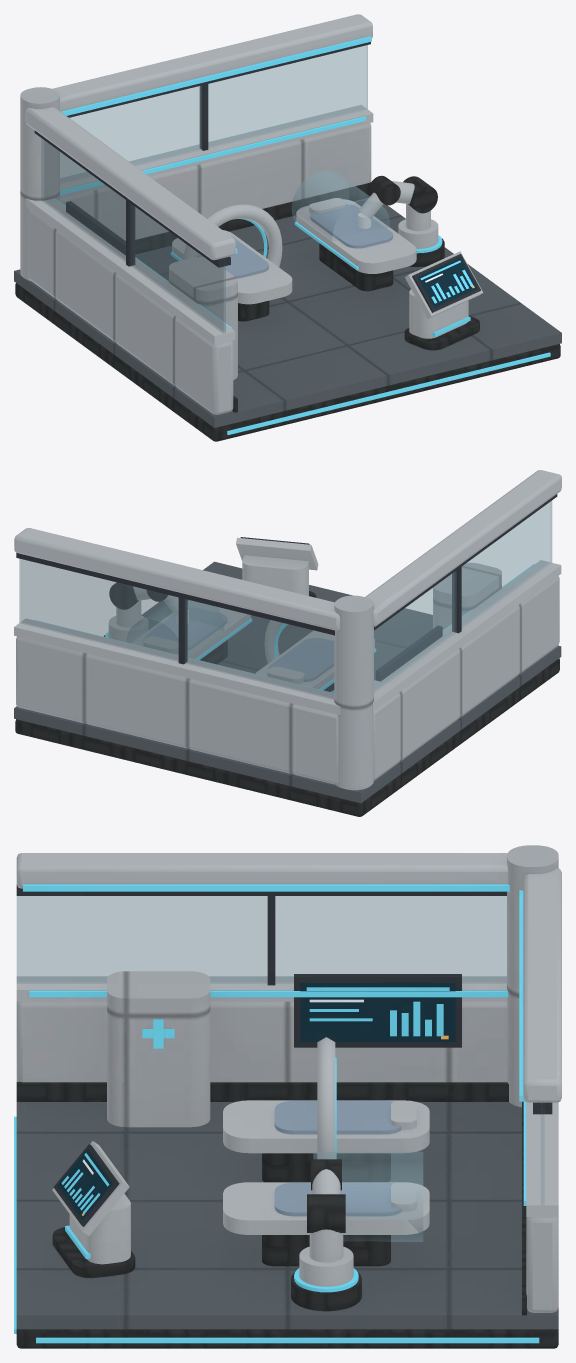
File: enterprise_medical_bay.glb
3 renders of one model, top to bottom at view 1: azimuth 30°, elevation 25°; view 2: azimuth 150°, elevation 25°; view 3: azimuth 270°, elevation 25°, orthographic. The views are drawn at different scales.
Parts seen in each view (by area): view 1: te_enterprise_medical_bay, move_rod; view 2: te_enterprise_medical_bay, move_rod; view 3: te_enterprise_medical_bay, move_rod.
Boxes of the visible parts, box(x1,y1,x2,y2) form: te_enterprise_medical_bay: box(14, 14, 561, 441); move_rod: box(183, 204, 282, 266); te_enterprise_medical_bay: box(14, 470, 561, 816); move_rod: box(264, 620, 334, 692); te_enterprise_medical_bay: box(14, 845, 561, 1348); move_rod: box(317, 1037, 336, 1159).
Size of the model in its own units: 0.849 by 0.472 by 0.849.
Materials: 2 (1 with a texture image).
